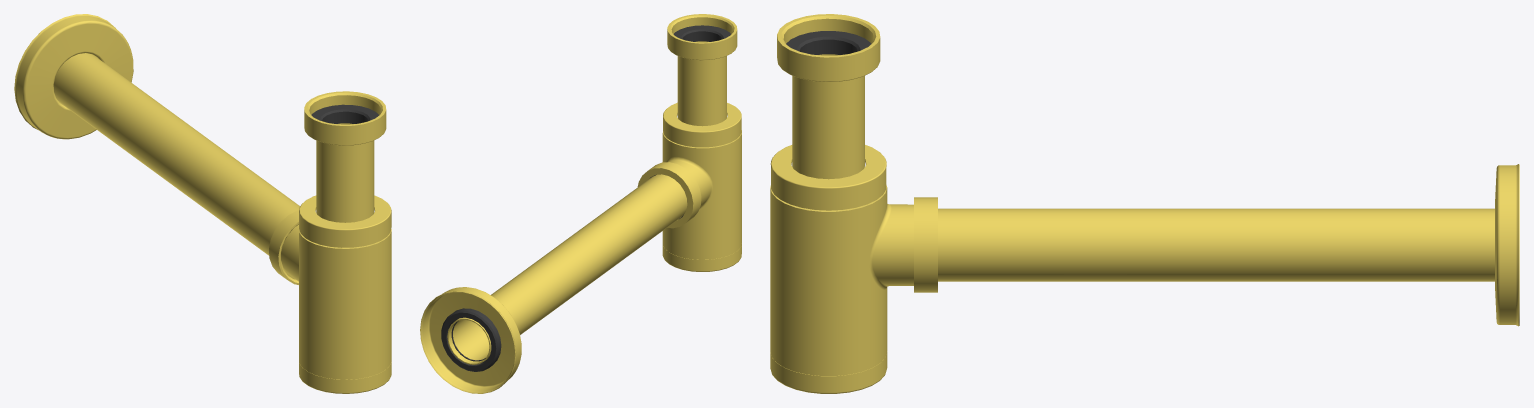
The picture shows the model from 3 angles, left to right: view 1: azimuth 30°, elevation 25°; view 2: azimuth 150°, elevation 25°; view 3: azimuth 270°, elevation 25°; orthographic projection. The views are drawn at different scales.
Visible parts, largest first — view 1: mesh_0_8, mesh_0_1, mesh_0_4, mesh_0_2, mesh_0_3; view 2: mesh_0_8, mesh_0_1, mesh_0_4, mesh_0_2, mesh_0_9, mesh_0_10, mesh_0_3; view 3: mesh_0_8, mesh_0_1, mesh_0_4, mesh_0_2, mesh_0_3.
Part boxes in pixels (x1=…): mesh_0_8: x1=14, y1=14, x2=299, y2=255; mesh_0_1: x1=269, y1=195, x2=391, y2=393; mesh_0_4: x1=316, y1=123, x2=374, y2=222; mesh_0_2: x1=304, y1=91, x2=386, y2=145; mesh_0_3: x1=311, y1=104, x2=378, y2=123; mesh_0_8: x1=420, y1=174, x2=687, y2=393; mesh_0_1: x1=637, y1=102, x2=741, y2=271; mesh_0_4: x1=677, y1=41, x2=726, y2=126; mesh_0_2: x1=667, y1=14, x2=737, y2=60; mesh_0_9: x1=441, y1=308, x2=501, y2=371; mesh_0_10: x1=447, y1=317, x2=491, y2=364; mesh_0_3: x1=673, y1=25, x2=730, y2=41; mesh_0_8: x1=938, y1=164, x2=1519, y2=326; mesh_0_1: x1=770, y1=145, x2=937, y2=393; mesh_0_4: x1=792, y1=54, x2=864, y2=179; mesh_0_2: x1=777, y1=14, x2=880, y2=81; mesh_0_3: x1=786, y1=31, x2=871, y2=54.
Bounding box in the file's own units: 71.29 × 161 × 327.
